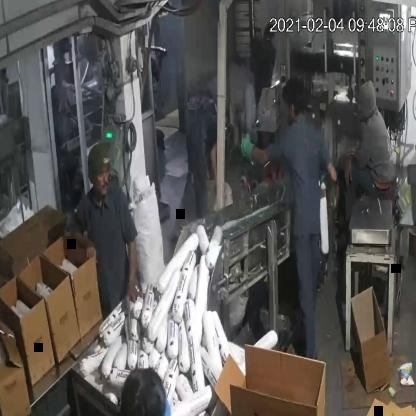glove: (241, 124, 268, 169)
no_glove: (58, 210, 104, 268), (120, 226, 149, 309), (207, 134, 226, 202), (337, 144, 358, 196)
